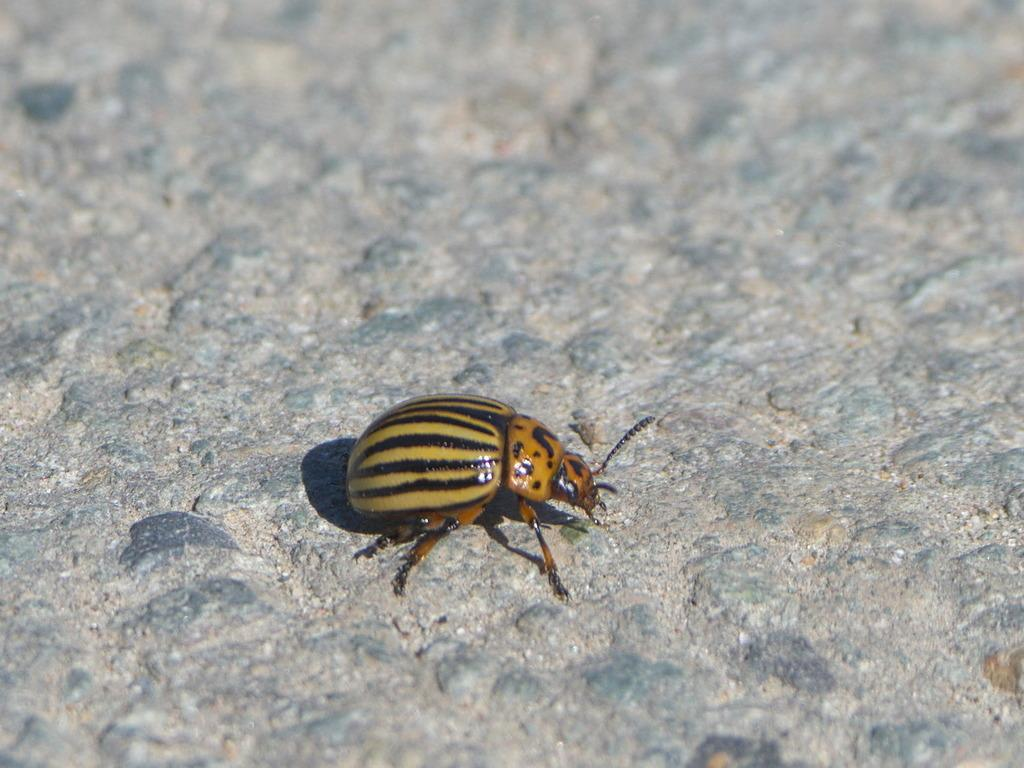potato_beetle: (289, 339, 696, 666)
